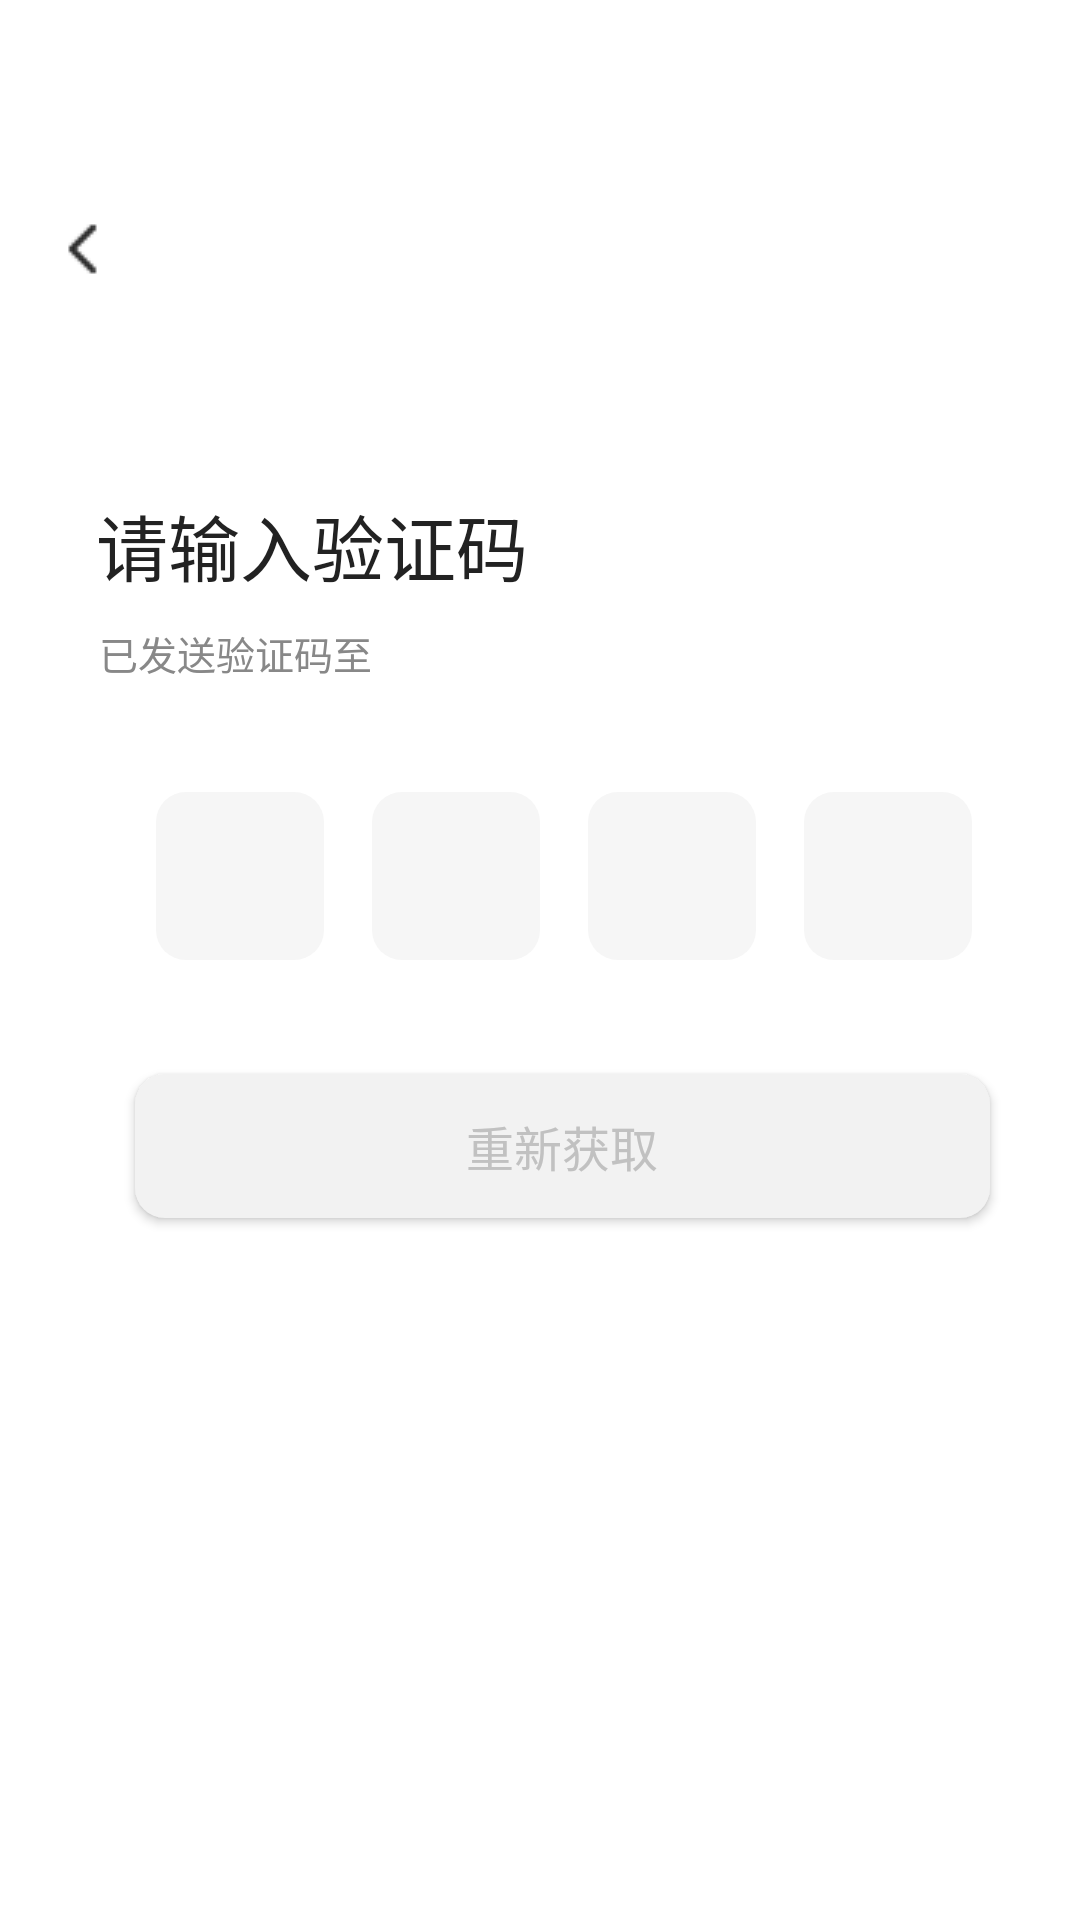

Screen size 1080*1920. Icon name, then its center in pixels as (x=x, y=y):
back: (x=82, y=249)
